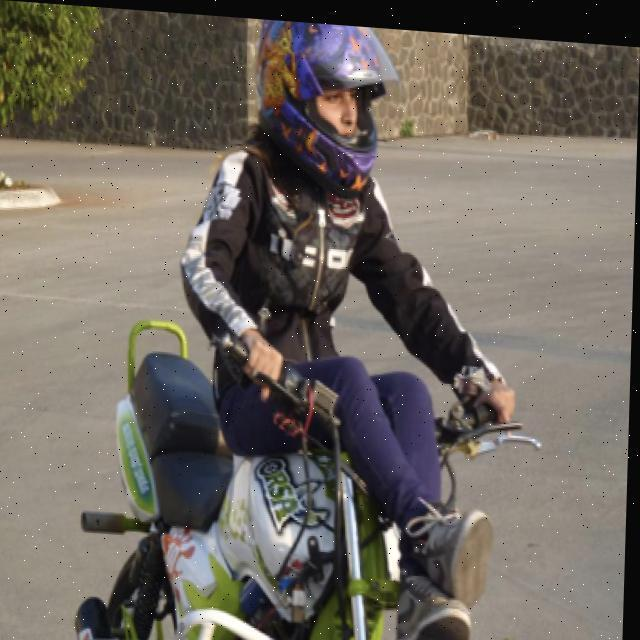Helmet: (252, 15, 402, 196)
